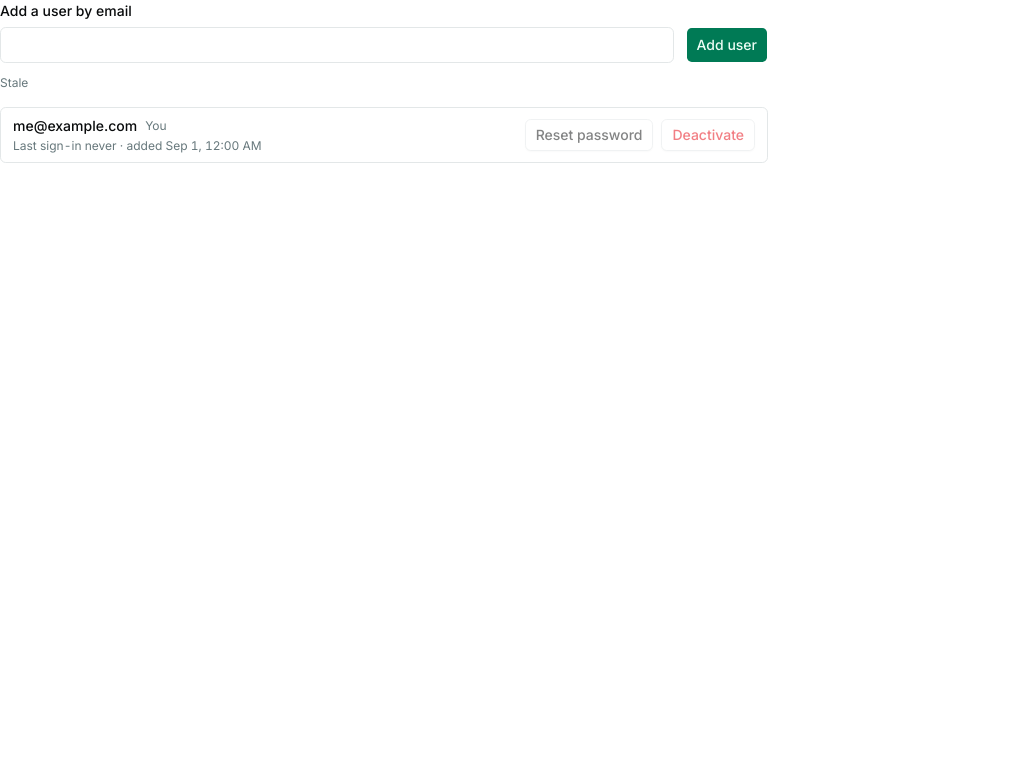
Test: user manager › adds a user and shows the temporary password once
This screenshot has width=1024, height=768.
Check: the text "me@example.com" is shown, box x1=13 y1=117 x2=137 y2=134
Type "new@example.com" into the field labelled "Add a user by email" at (337, 45), box x1=0 y1=27 x2=674 y2=63
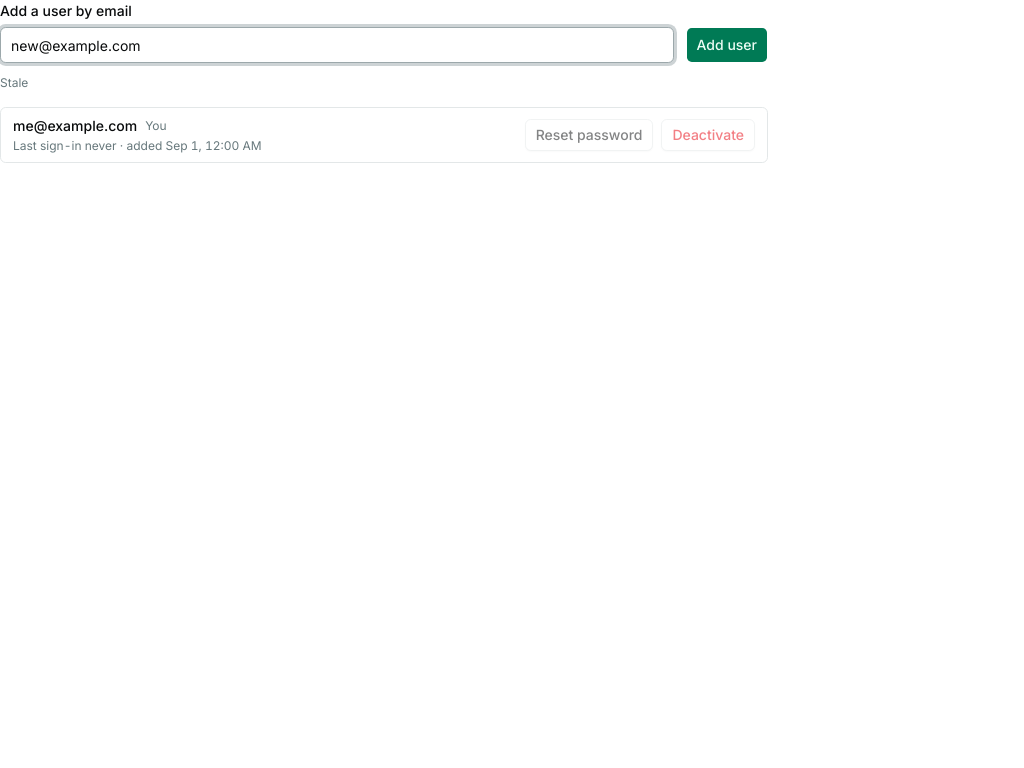
Click the button "Add user" at (727, 45), box x1=686 y1=27 x2=768 y2=63
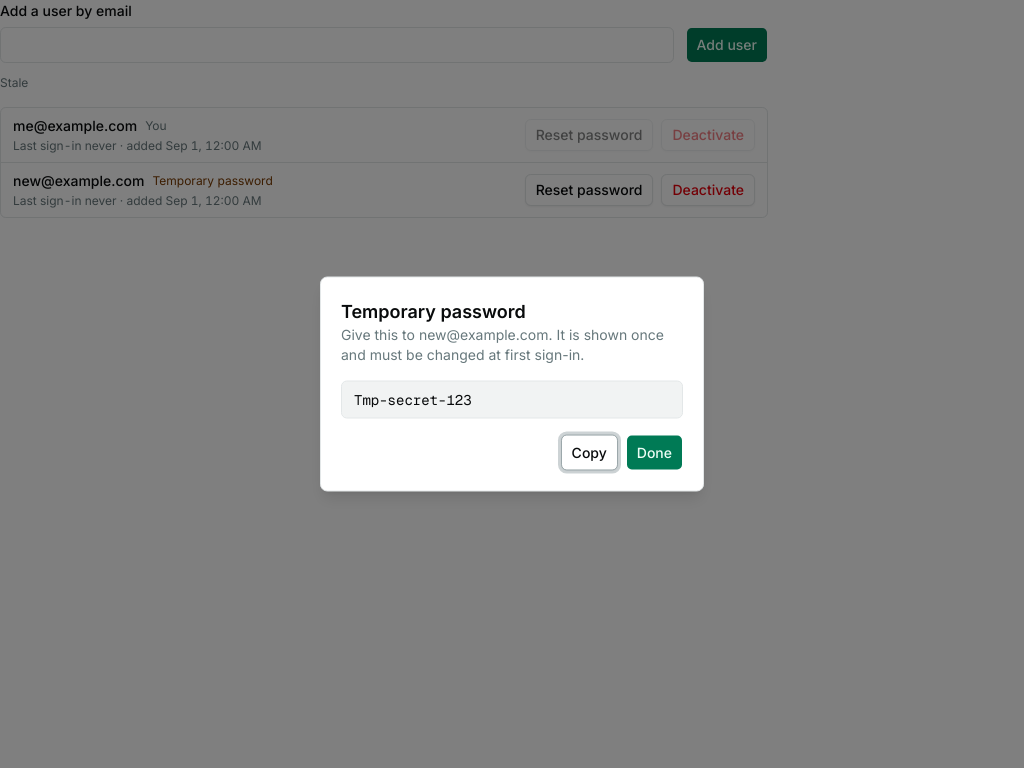
Check: the text "Tmp-secret-123" is shown, box x1=341 y1=380 x2=683 y2=418
Click the button "Done" at (654, 452), box x1=626 y1=434 x2=683 y2=470
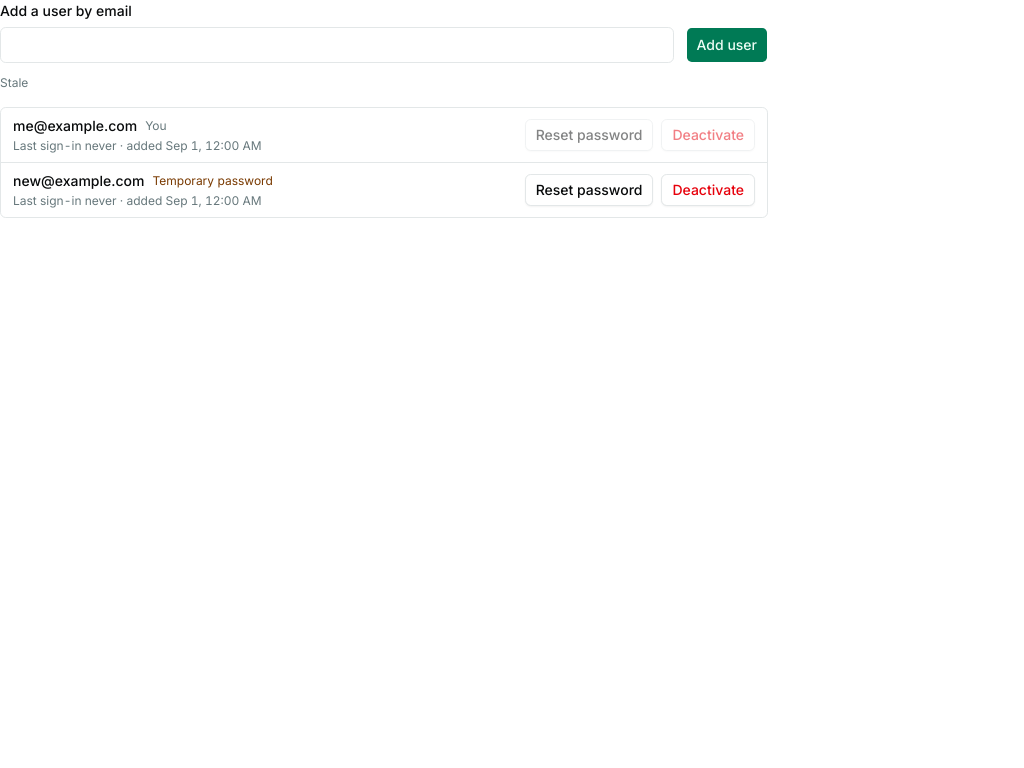
Check: the text "new@example.com" is shown, box x1=13 y1=172 x2=144 y2=189
Check: the text "Tmp-secret-123" is gone
